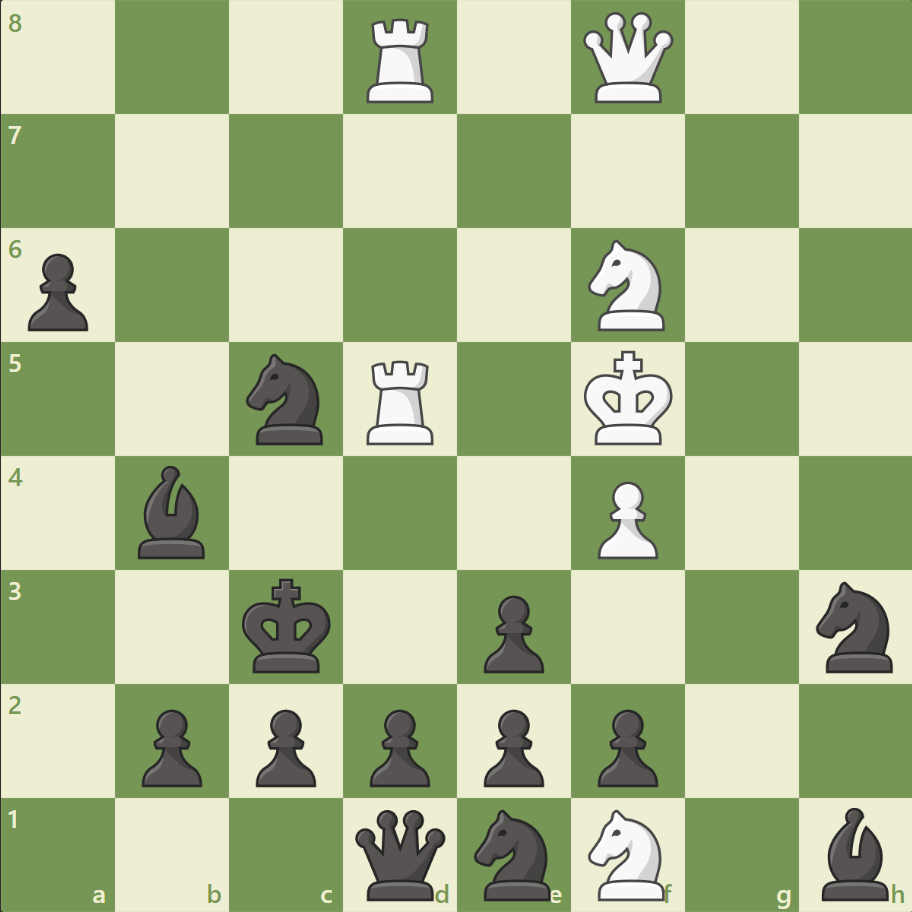K: (579, 344, 679, 452)
N: (579, 234, 676, 337), (579, 802, 676, 904)
P: (588, 473, 662, 564)
Q: (578, 9, 677, 108)
R: (360, 12, 442, 109), (360, 352, 442, 449)
b: (131, 460, 215, 563), (812, 801, 896, 904)
k: (238, 571, 338, 679)
n: (238, 348, 335, 450), (806, 575, 903, 677), (465, 802, 562, 904)
p: (20, 246, 95, 337), (474, 586, 549, 677), (133, 700, 208, 791), (247, 700, 322, 791), (474, 700, 549, 791), (361, 700, 435, 791), (588, 700, 662, 791)
q: (351, 804, 450, 903)
